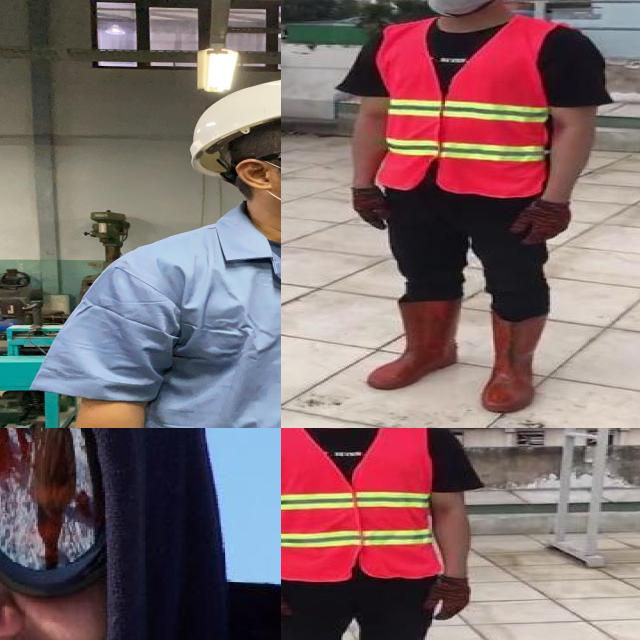No_Ear-Protection: (237, 159, 281, 208)
boots: (366, 300, 464, 389), (480, 314, 550, 413)
face_mask: (410, 0, 495, 14)
face_nomask: (0, 428, 110, 640)
glasses: (0, 428, 118, 596)
hand_glove: (507, 200, 571, 244), (423, 574, 471, 620), (349, 185, 390, 232), (281, 586, 295, 629)
head_helmet: (190, 80, 281, 175)
person: (342, 0, 611, 409), (281, 428, 480, 640)
vest: (378, 17, 552, 198), (281, 428, 433, 580)
